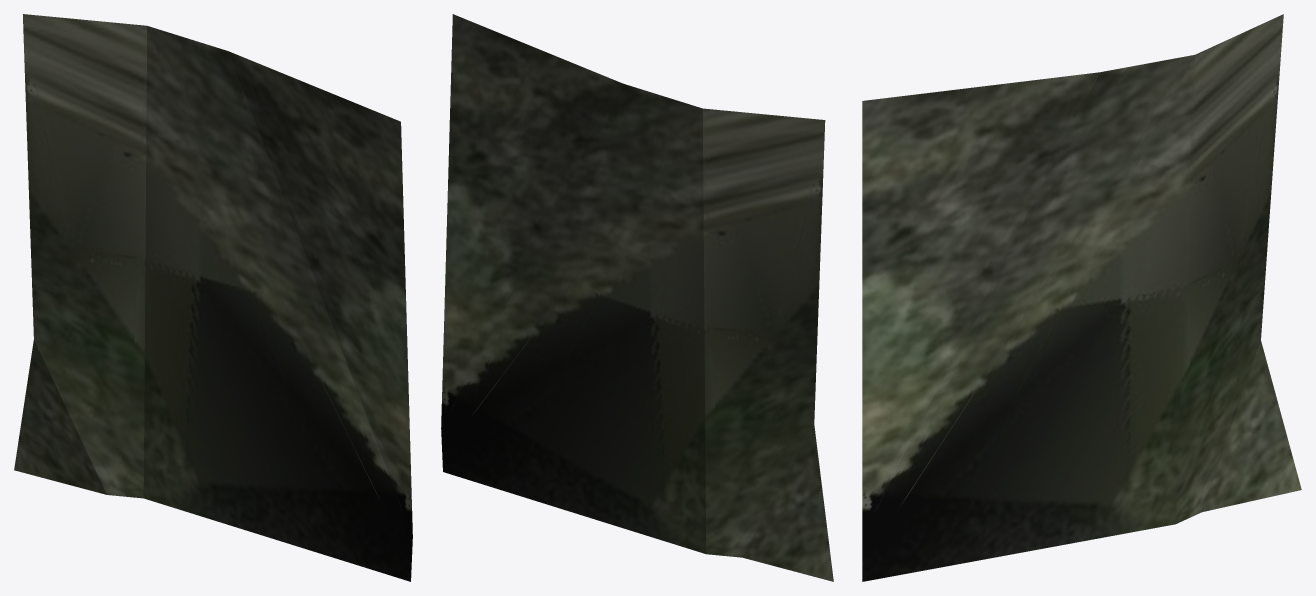
3 views of the same model, side by side, from view 1: azimuth 30°, elevation 25°; view 2: azimuth 210°, elevation 25°; view 3: azimuth 270°, elevation 25° (orthographic). The views are drawn at different scales.
Size of the model in its own units: 2.47 by 5.9 by 4.94.
Materials: 2 (2 with a texture image).
